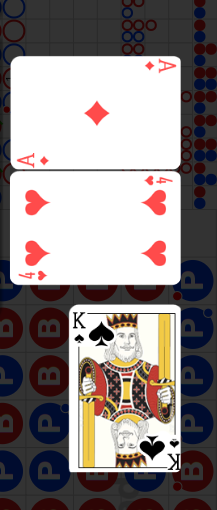4H: (18, 269, 49, 282)
AD: (16, 150, 52, 167)
